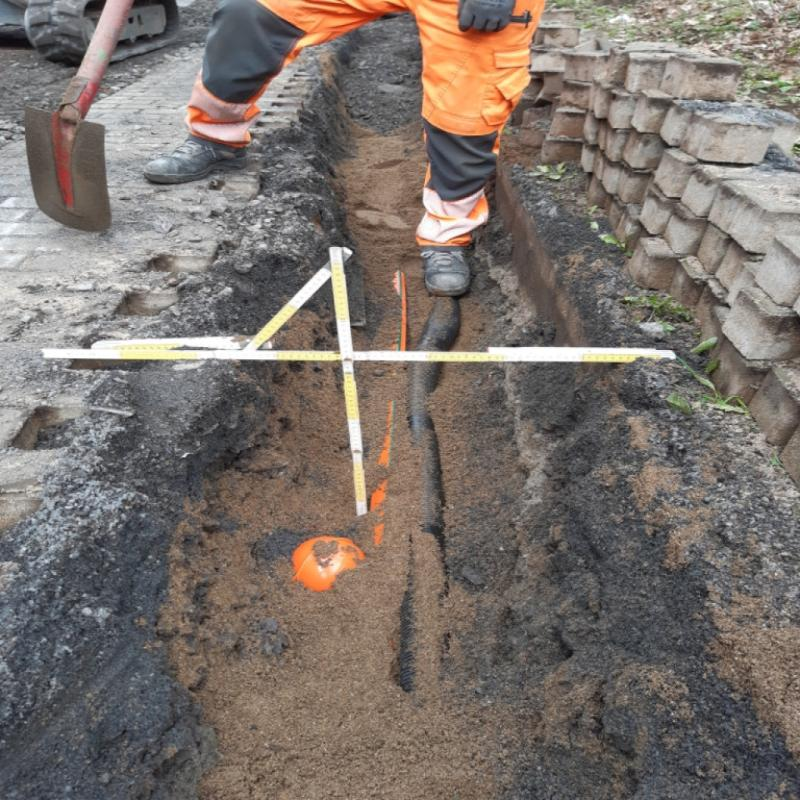Kugelmarker: (289, 537, 365, 593)
Orang-Speednetrohrchen: (369, 401, 394, 544), (392, 269, 406, 351)
